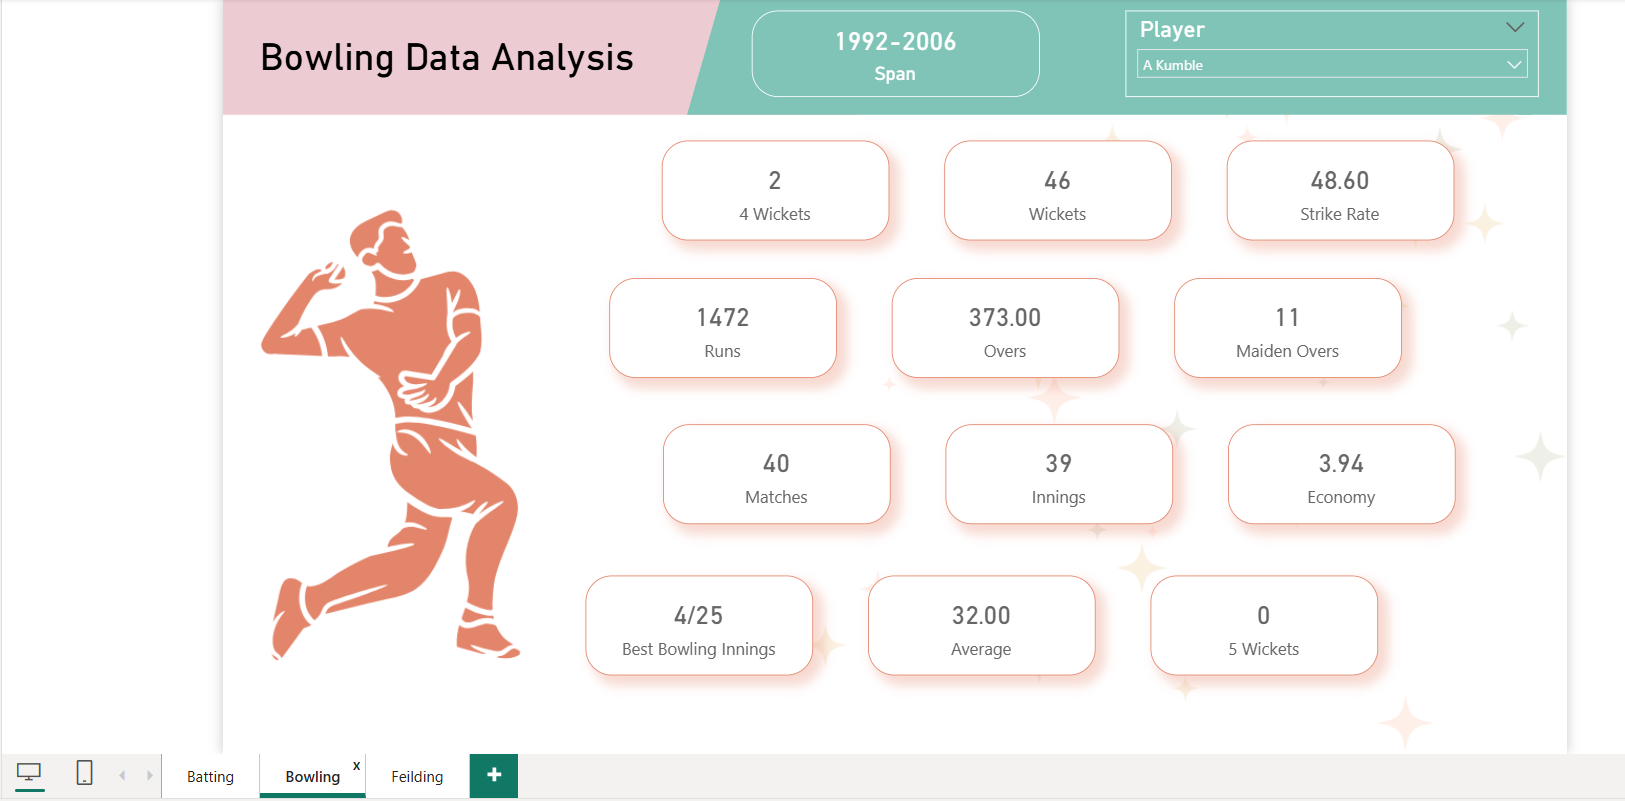

The page's visual inventory and layout, read from the dashboard file:
{"tool":"powerbi","page":{"name":"Bowling","canvas":[1280,720],"ordinal":1},"visuals":[{"type":"shape","box":[0,0,604,111.5],"z":0},{"type":"shape","box":[442.2,0,837.8,111.5],"z":1000},{"type":"shape","box":[1233.3,0,46.7,111.5],"z":2000},{"type":"slicer","fields":{"Values":["Bowling.Player"]},"box":[859.9,11.5,393.9,82.2],"z":3000},{"type":"card","fields":{"Values":["Sum(Bowling.4)"]},"box":[417.9,135.6,216.4,95.2],"z":4000},{"type":"card","fields":{"Values":["Sum(Bowling.Wkts)"]},"box":[687,135.6,216.4,95.2],"z":5000},{"type":"card","fields":{"Values":["Sum(Bowling.SR)"]},"box":[956.1,135.6,216.4,95.2],"z":6000},{"type":"card","fields":{"Values":["Sum(Bowling.Runs)"]},"box":[367.4,266.9,216.4,95.2],"z":7000},{"type":"card","fields":{"Values":["Sum(Bowling.Overs)"]},"box":[636.5,266.9,216.4,95.2],"z":8000},{"type":"card","fields":{"Values":["Sum(Bowling.Mdns)"]},"box":[905.6,266.9,216.4,95.2],"z":9000},{"type":"card","fields":{"Values":["Sum(Bowling.Mat)"]},"box":[418.7,406.5,216.4,95.2],"z":10000},{"type":"card","fields":{"Values":["Sum(Bowling.Inns)"]},"box":[687.8,406.5,216.4,95.2],"z":11000},{"type":"card","fields":{"Values":["Sum(Bowling.Econ)"]},"box":[956.9,406.5,216.4,95.2],"z":12000},{"type":"card","fields":{"Values":["Min(Bowling.BBI)"]},"box":[344.8,549.6,216.4,95.2],"z":13000},{"type":"card","fields":{"Values":["Sum(Bowling.Ave)"]},"box":[613.9,549.6,216.4,95.2],"z":14000},{"type":"card","fields":{"Values":["Sum(Bowling.5)"]},"box":[883,549.6,216.4,95.2],"z":15000},{"type":"card","fields":{"Values":["Min(Bowling.Span)"]},"box":[503.5,11.5,274.1,82.2],"z":16000}]}

Visuals, with their boxes on the page's 1280x720 design canvas (x1, y1, x2, y2). These are canvas units, not pixel positions in the 1625x801 screenshot, which may show the page scaled, cropped or inside an application window:
shape: (left=0, top=0, right=604, bottom=112)
shape: (left=442, top=0, right=1280, bottom=112)
shape: (left=1233, top=0, right=1280, bottom=112)
slicer - Bowling.Player: (left=860, top=12, right=1254, bottom=94)
card - Sum(Bowling.4): (left=418, top=136, right=634, bottom=231)
card - Sum(Bowling.Wkts): (left=687, top=136, right=903, bottom=231)
card - Sum(Bowling.SR): (left=956, top=136, right=1172, bottom=231)
card - Sum(Bowling.Runs): (left=367, top=267, right=584, bottom=362)
card - Sum(Bowling.Overs): (left=636, top=267, right=853, bottom=362)
card - Sum(Bowling.Mdns): (left=906, top=267, right=1122, bottom=362)
card - Sum(Bowling.Mat): (left=419, top=406, right=635, bottom=502)
card - Sum(Bowling.Inns): (left=688, top=406, right=904, bottom=502)
card - Sum(Bowling.Econ): (left=957, top=406, right=1173, bottom=502)
card - Min(Bowling.BBI): (left=345, top=550, right=561, bottom=645)
card - Sum(Bowling.Ave): (left=614, top=550, right=830, bottom=645)
card - Sum(Bowling.5): (left=883, top=550, right=1099, bottom=645)
card - Min(Bowling.Span): (left=504, top=12, right=778, bottom=94)
